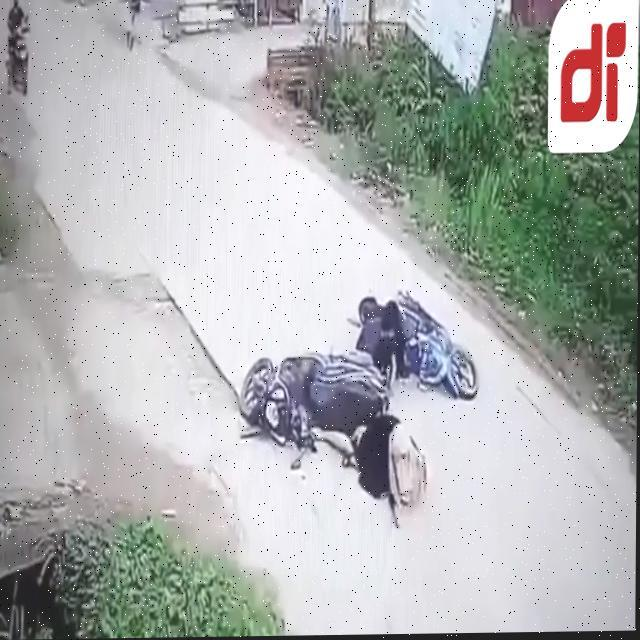multiple_accident: (217, 205, 528, 523)
